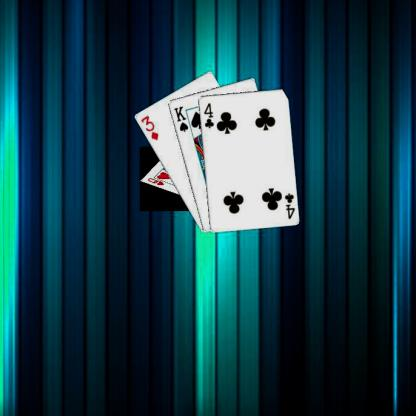3D: (138, 113, 160, 141)
4C: (200, 100, 214, 129), (282, 191, 296, 220)
KS: (171, 103, 189, 133)
